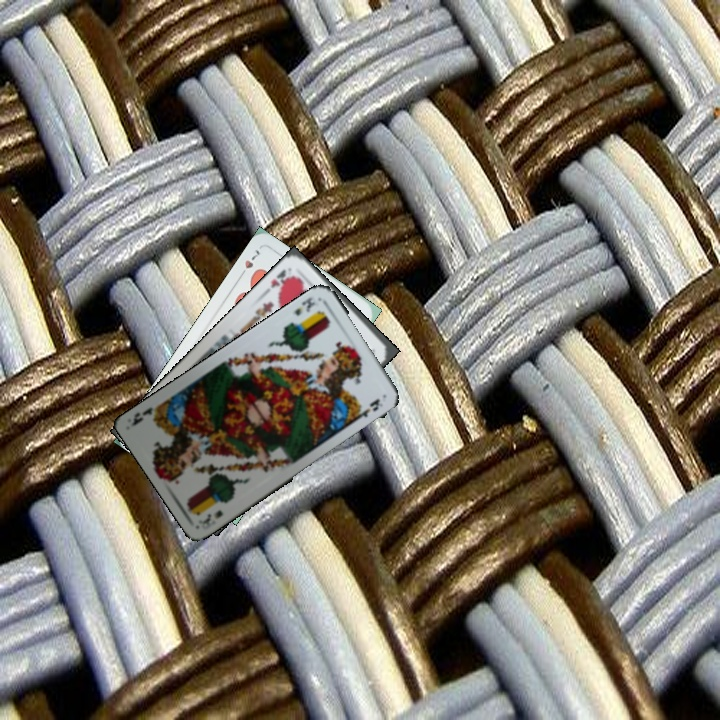EK: (197, 506, 226, 532), (290, 293, 317, 318)
H7: (235, 245, 263, 281)
HK: (262, 265, 296, 296)
